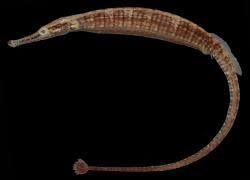Long-Snouted Pipefish: (9, 8, 244, 175)
